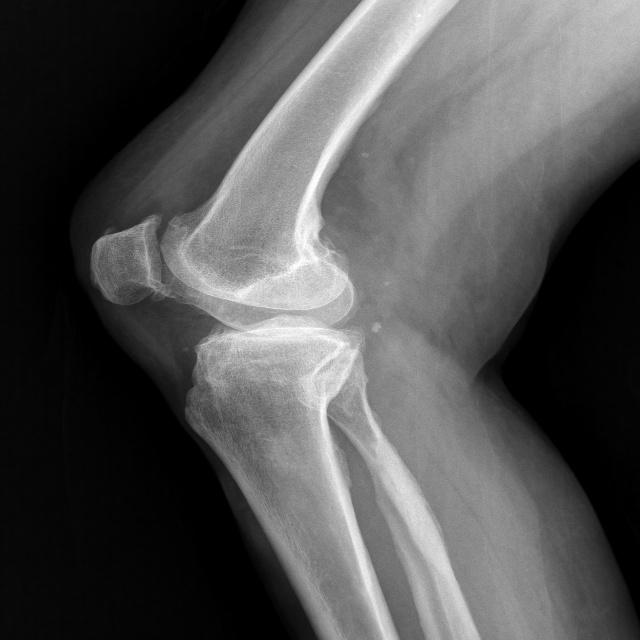Knee: (83, 208, 363, 432)
